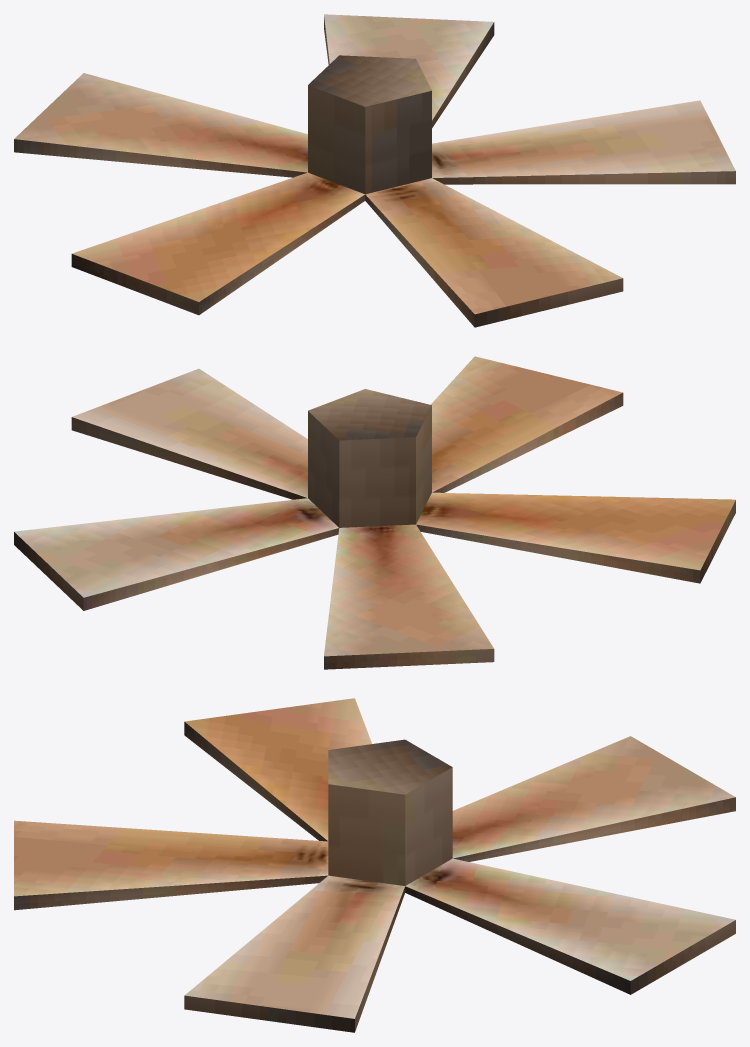
Rendered from fan.glb.
3 views of the same model, one above another, from view 1: azimuth 30°, elevation 25°; view 2: azimuth 150°, elevation 25°; view 3: azimuth 270°, elevation 25° (orthographic). The views are drawn at different scales.
Parts seen in each view (by area): view 1: Fan; view 2: Fan; view 3: Fan.
Boxes of the visible parts, box(x1,y1,x2,y2) form: Fan: box(14, 14, 735, 327); Fan: box(14, 356, 735, 669); Fan: box(14, 698, 735, 1032).
Bounding box in the file's own units: 11.06 × 1.69 × 10.52.
1 material, 1 textured.
